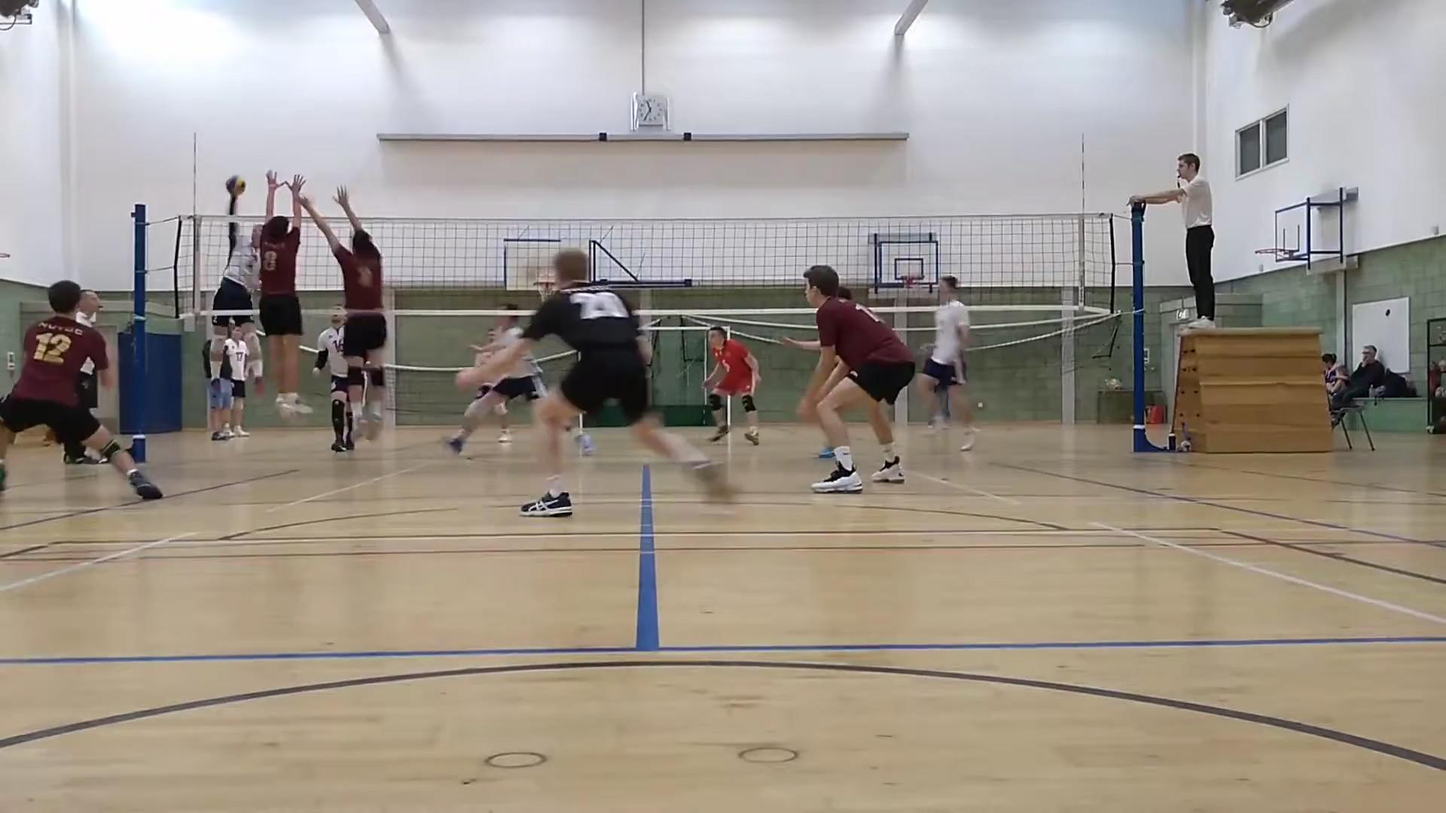Attack: (192, 167, 271, 394)
Block: (303, 189, 396, 421), (259, 166, 312, 427)
Player: (456, 251, 730, 516), (0, 282, 161, 499), (798, 265, 915, 492), (444, 352, 545, 454), (445, 352, 546, 453), (917, 276, 974, 450), (703, 326, 760, 445), (313, 311, 354, 452), (782, 337, 819, 351)
ball: (222, 169, 250, 203)
